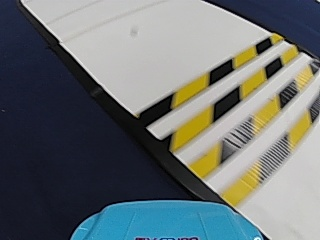bump: (162, 37, 312, 165)
